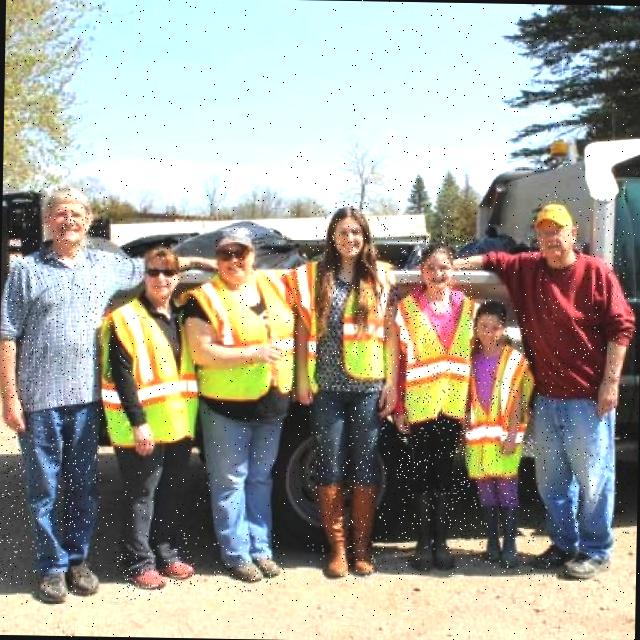vest: (106, 298, 206, 447), (205, 266, 298, 405), (404, 294, 472, 424), (468, 342, 530, 481), (335, 272, 394, 390)
